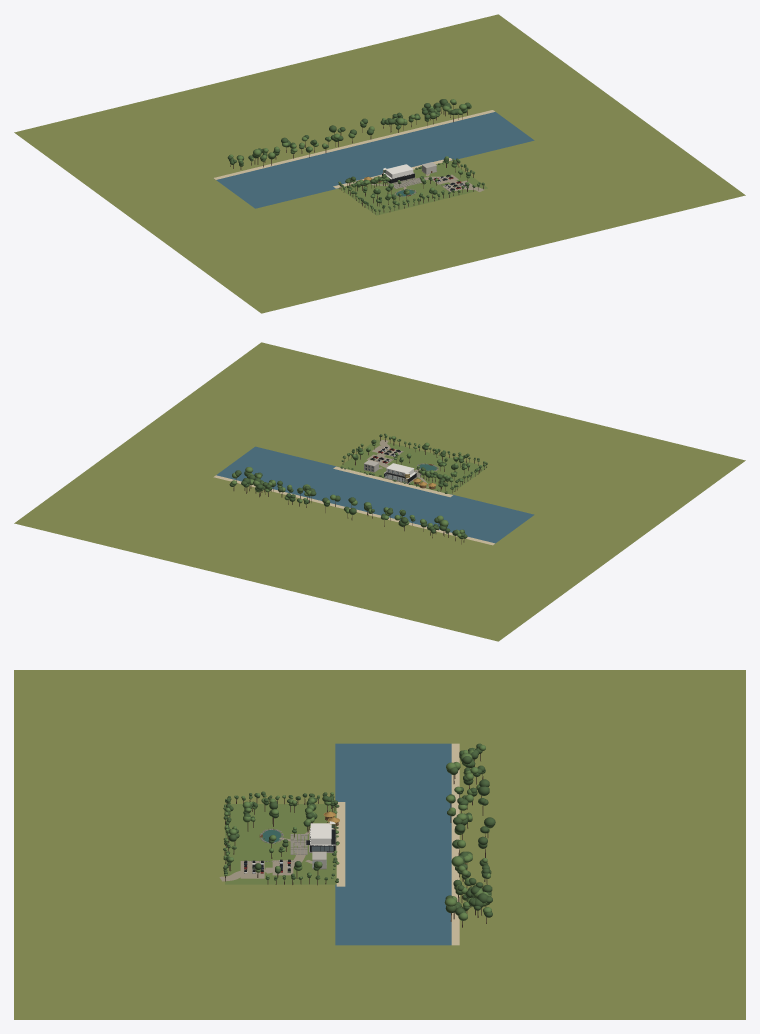
Rendered from first.glb.
3 views of the same model, one above another, from view 1: azimuth 30°, elevation 25°; view 2: azimuth 150°, elevation 25°; view 3: azimuth 270°, elevation 25° (orthographic). The views are drawn at different scales.
Visible parts, largest first — view 1: context_terrain, river_water, far_shore_ground, site_lawn, far_bank_sand; view 2: context_terrain, river_water, far_shore_ground, site_lawn, far_bank_sand; view 3: context_terrain, river_water, far_shore_ground, site_lawn, far_bank_sand, river_bank_sand.
Part boxes in pixels (<box>): context_terrain: <box>14,14,745,313</box>; river_water: <box>216,112,534,208</box>; far_shore_ground: <box>192,94,492,177</box>; site_lawn: <box>339,160,487,215</box>; far_bank_sand: <box>214,110,494,179</box>; context_terrain: <box>14,342,745,641</box>; river_water: <box>216,446,534,543</box>; far_shore_ground: <box>192,477,492,560</box>; site_lawn: <box>339,439,487,494</box>; far_bank_sand: <box>213,475,494,545</box>; context_terrain: <box>14,670,745,1019</box>; river_water: <box>335,743,451,945</box>; far_shore_ground: <box>459,743,523,945</box>; site_lawn: <box>225,804,336,884</box>; far_bank_sand: <box>451,743,459,945</box>; river_bank_sand: <box>336,802,345,886</box>.
Size of the model in its own units: 520 by 16.56 by 460.
